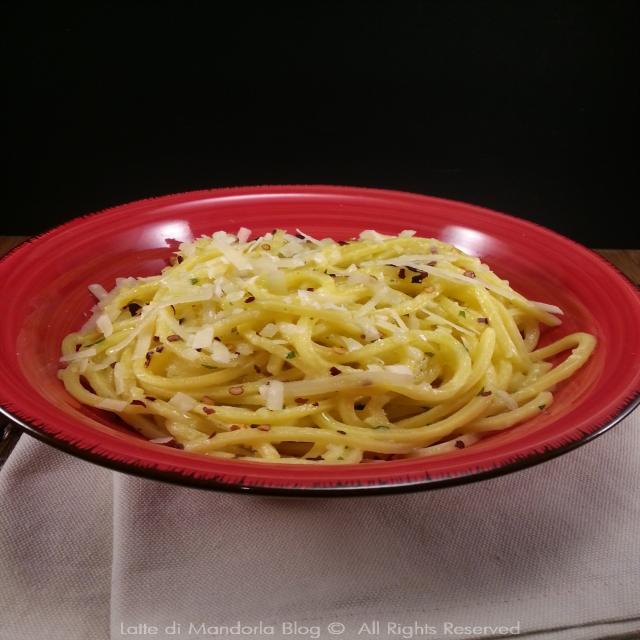Oil pasta: (4, 174, 640, 494)
